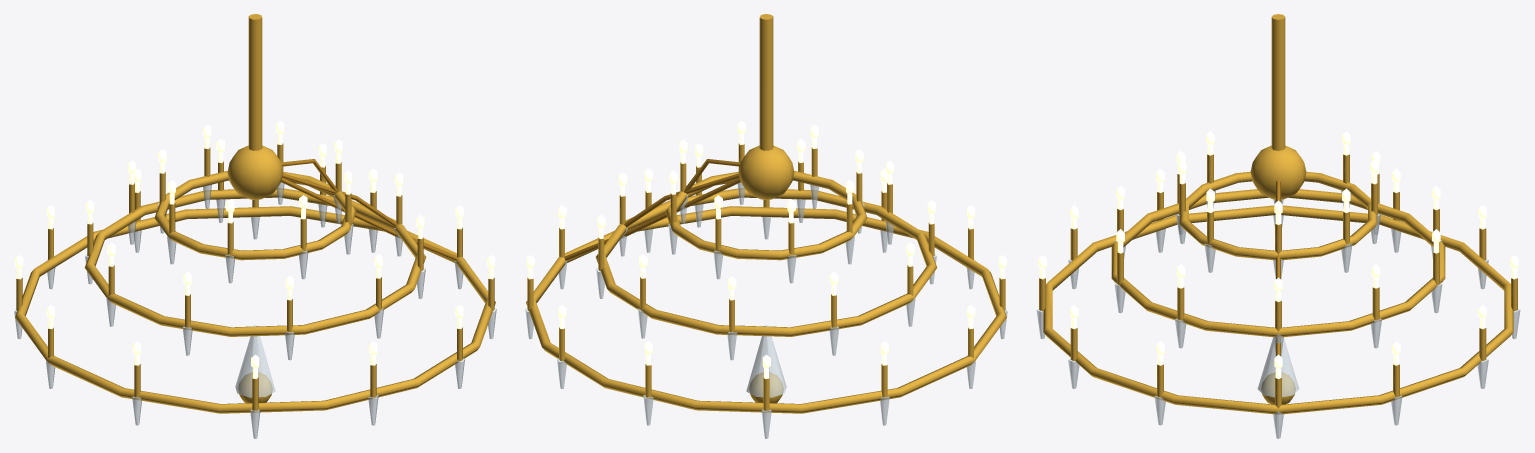
File: chandelier.glb
3 renders of one model, left to right at view 1: azimuth 30°, elevation 25°; view 2: azimuth 150°, elevation 25°; view 3: azimuth 270°, elevation 25°, orthographic.
Visible parts, largest first — view 1: root; view 2: root; view 3: root.
Boxes of the visible parts, box(x1,y1,x2,y2) form: root: box(14, 14, 496, 438); root: box(525, 14, 1007, 438); root: box(1036, 14, 1520, 438).
Size of the model in its own units: 2.77 by 2.45 by 2.77.
